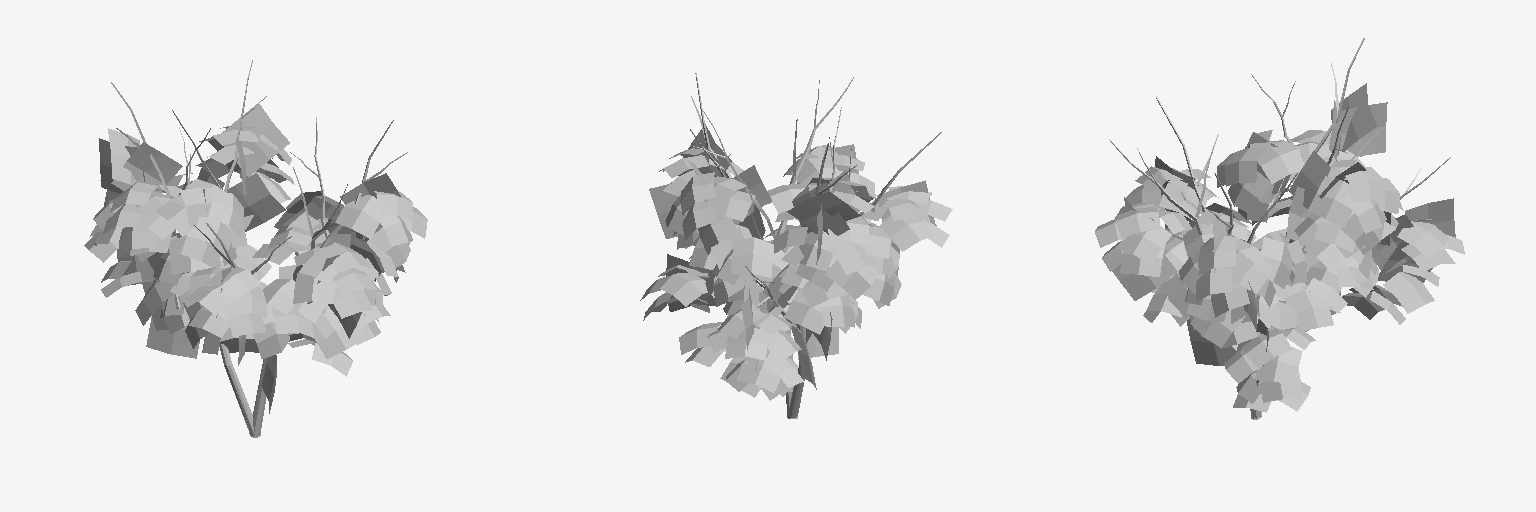
The model's file is tree3b_lod0.obj.
3 views of the same model, side by side, from view 1: azimuth 30°, elevation 25°; view 2: azimuth 150°, elevation 25°; view 3: azimuth 270°, elevation 25° (orthographic).
Visible parts, largest first — view 1: leaves 0.0 0.[number redacted] 0.0 0 0 0 0.[number redacted] 0.[number redacted], bark 0.[number redacted] -0.[number redacted] 0.[number redacted]; view 2: leaves 0.0 0.[number redacted] 0.0 0 0 0 0.[number redacted] 0.[number redacted], bark 0.[number redacted] -0.[number redacted] 0.[number redacted]; view 3: leaves 0.0 0.[number redacted] 0.0 0 0 0 0.[number redacted] 0.[number redacted], bark 0.[number redacted] -0.[number redacted] 0.[number redacted].
Boxes of the visible parts, x1,y1,x2,y2 form: leaves 0.0 0.[number redacted] 0.0 0 0 0 0.[number redacted] 0.[number redacted]: [84, 104, 427, 413]; bark 0.[number redacted] -0.[number redacted] 0.[number redacted]: [100, 60, 407, 437]; leaves 0.0 0.[number redacted] 0.0 0 0 0 0.[number redacted] 0.[number redacted]: [640, 124, 952, 400]; bark 0.[number redacted] -0.[number redacted] 0.[number redacted]: [689, 73, 941, 418]; leaves 0.0 0.[number redacted] 0.0 0 0 0 0.[number redacted] 0.[number redacted]: [1095, 83, 1464, 412]; bark 0.[number redacted] -0.[number redacted] 0.[number redacted]: [1109, 38, 1450, 419].
Bounding box in the file's own units: 0.8554 × 1 × 1.